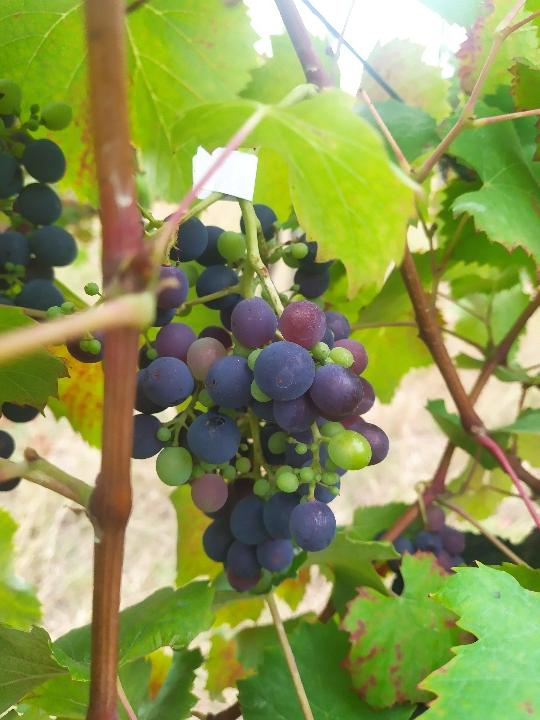grape: (131, 201, 392, 596)
